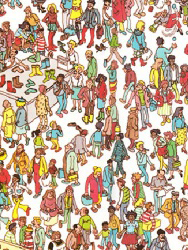waldo: (36, 27, 45, 38)
